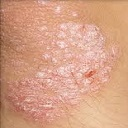Psoriasis: (16, 25, 110, 110)
